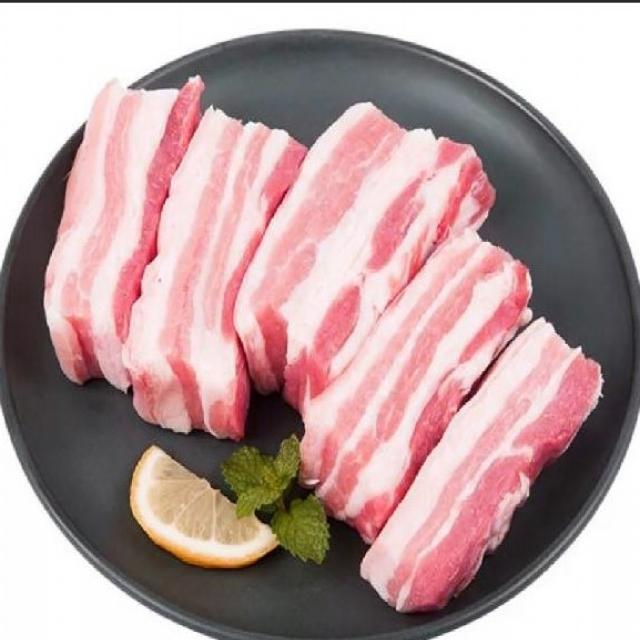pork: (246, 104, 494, 394), (359, 317, 604, 610), (312, 221, 515, 526), (62, 72, 158, 387)
